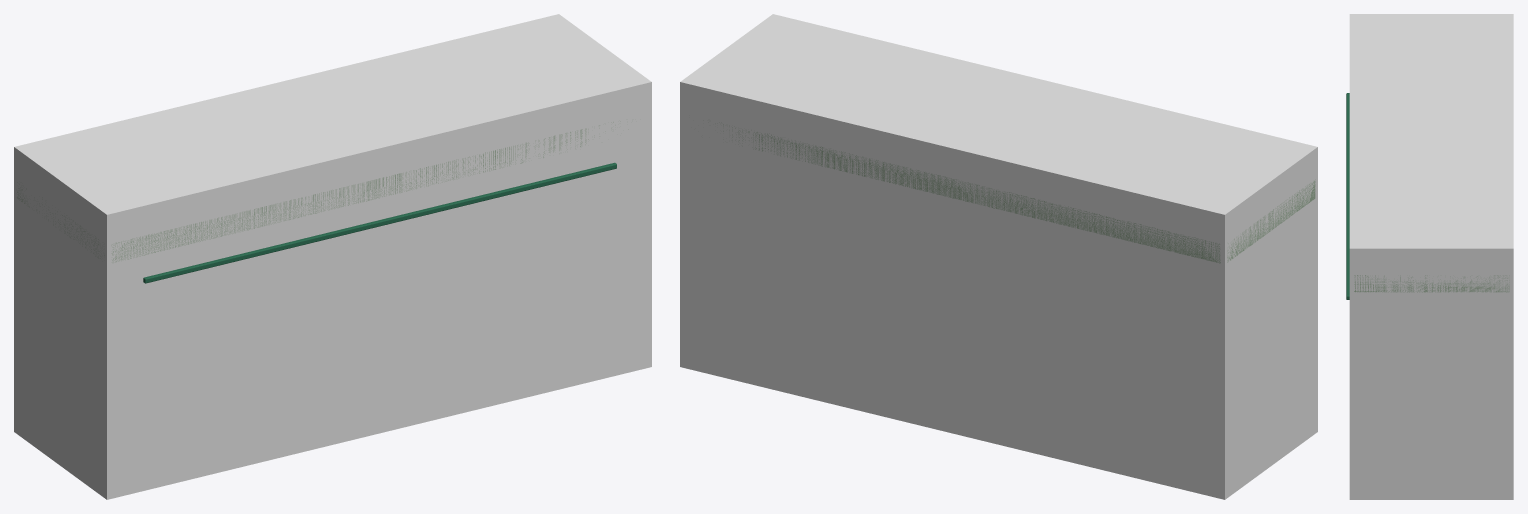
File: back-counter_retail.glb
3 views of the same model, side by side, from view 1: azimuth 30°, elevation 25°; view 2: azimuth 150°, elevation 25°; view 3: azimuth 270°, elevation 25° (orthographic). The views are drawn at different scales.
Visible parts, largest first — view 1: COL_back-counter, MESH_Worktop, MESH_TierTrim_01; view 2: COL_back-counter, MESH_Worktop; view 3: COL_back-counter, MESH_Worktop, MESH_TierTrim_01.
Boxes of the visible parts, x1,y1,x2,y2 form: COL_back-counter: (14, 14, 651, 499); MESH_Worktop: (17, 121, 628, 262); MESH_TierTrim_01: (143, 162, 616, 283); COL_back-counter: (680, 14, 1317, 499); MESH_Worktop: (703, 120, 1315, 263); COL_back-counter: (1349, 14, 1513, 499); MESH_Worktop: (1354, 275, 1509, 292); MESH_TierTrim_01: (1346, 93, 1349, 299).
Size of the model in its own units: 2.1 by 1.05 by 0.633.
